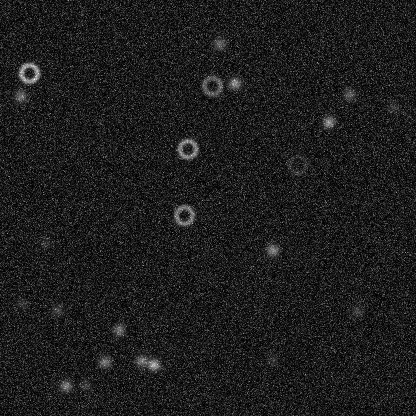Ring: (175, 136, 199, 160), (16, 61, 40, 85), (285, 152, 309, 176), (199, 73, 223, 97), (172, 203, 196, 227)
Spot: (320, 113, 336, 129), (211, 35, 227, 51), (264, 241, 280, 257), (348, 302, 364, 318), (96, 353, 112, 369), (77, 377, 93, 393), (57, 377, 73, 393), (133, 352, 149, 368), (12, 87, 28, 103), (37, 233, 53, 249), (49, 302, 65, 318), (110, 321, 126, 337), (226, 75, 242, 91), (145, 356, 161, 372), (263, 352, 279, 368), (341, 86, 357, 102), (384, 99, 400, 115), (13, 295, 29, 311)
